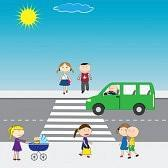car: (84, 81, 157, 116)
person: (72, 122, 94, 159), (54, 60, 76, 96), (6, 124, 26, 161), (115, 123, 133, 157), (76, 62, 94, 94), (125, 126, 141, 160), (107, 85, 117, 96), (32, 136, 41, 145)
